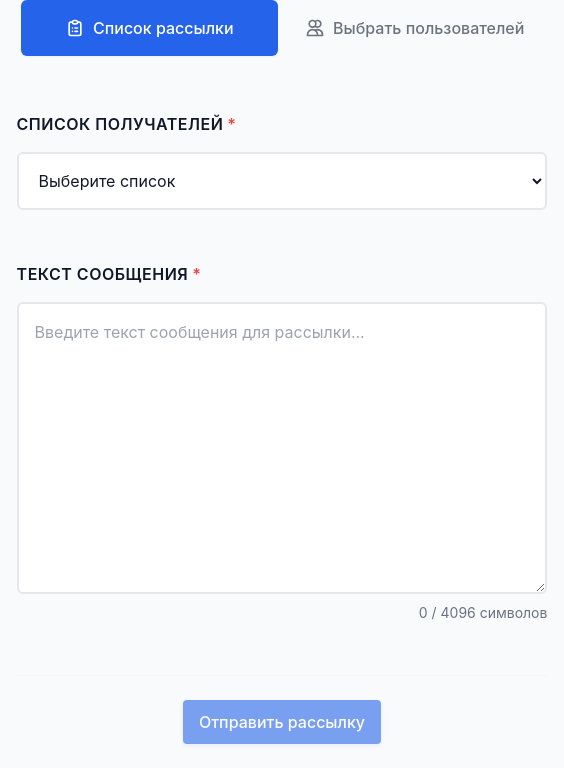
BroadcastComposer › Предпросмотр сообщения › должен показывать предпросмотр сообщения
This screenshot has width=564, height=768.
(page scrolled)
In the text box labelled "Текст сообщения*": [282, 448] box 17,302 -> 548,594, type "Test **bold** message"
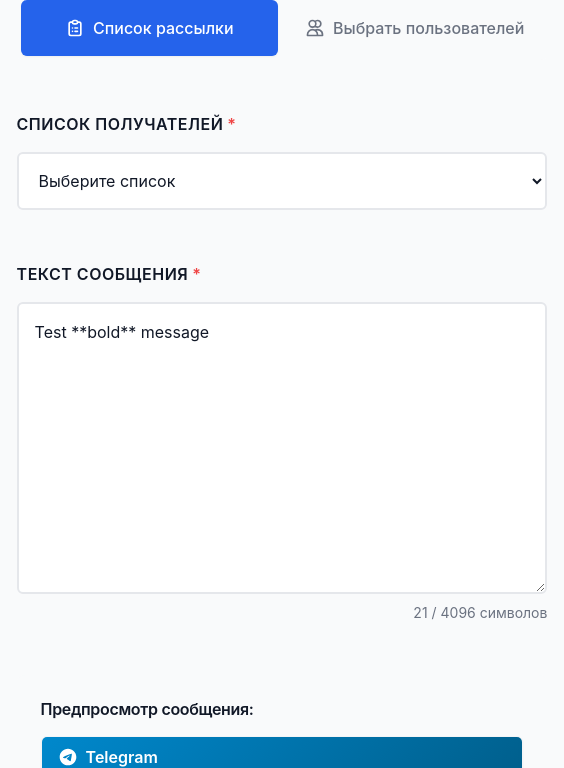
Expected: the heading "Предпросмотр сообщения:" is shown, 41,699 -> 254,719
